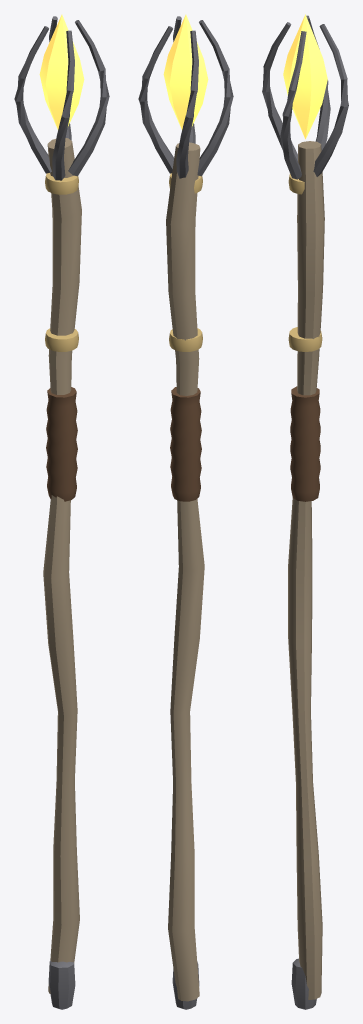
Rendered from ashwood_staff.glb.
The picture shows the model from 3 angles, left to right: view 1: azimuth 30°, elevation 25°; view 2: azimuth 210°, elevation 25°; view 3: azimuth 270°, elevation 25°; orthographic projection.
Visible parts, largest first — view 1: ashwood_staff; view 2: ashwood_staff; view 3: ashwood_staff.
Boxes of the visible parts, x1,y1,x2,y2 form: ashwood_staff: (14,14,109,1009); ashwood_staff: (138,14,233,1009); ashwood_staff: (262,14,348,1009).
Size of the model in its own units: 0.1502 by 1.9 by 0.1502.
